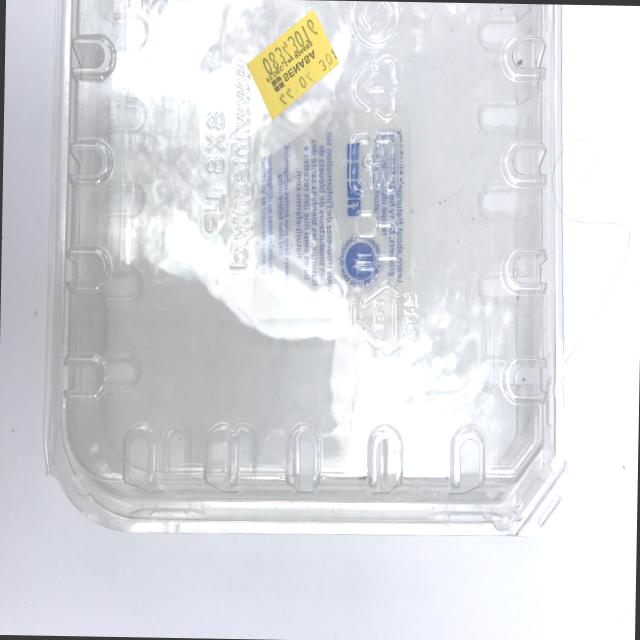Plastic: (36, 0, 582, 573)
